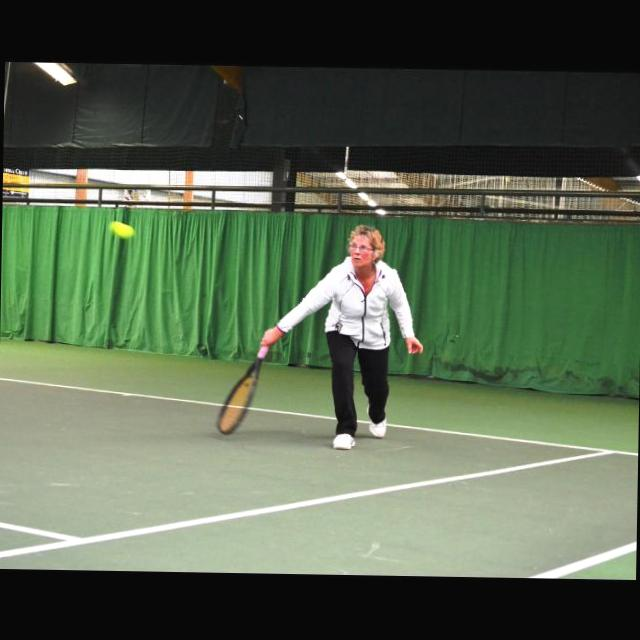Tennis Ball: (110, 220, 136, 238)
